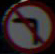Don't turn left: (7, 2, 48, 43)
